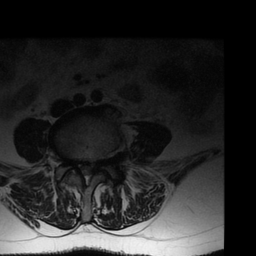CCS_normal: (83, 157, 89, 190)
LFS_severe_stenosis: (96, 155, 102, 174)
LLS_severe_stenosis: (90, 159, 95, 177)
RFS_severe_stenosis: (70, 156, 77, 175)
RLS_stenosis: (77, 158, 83, 179)
